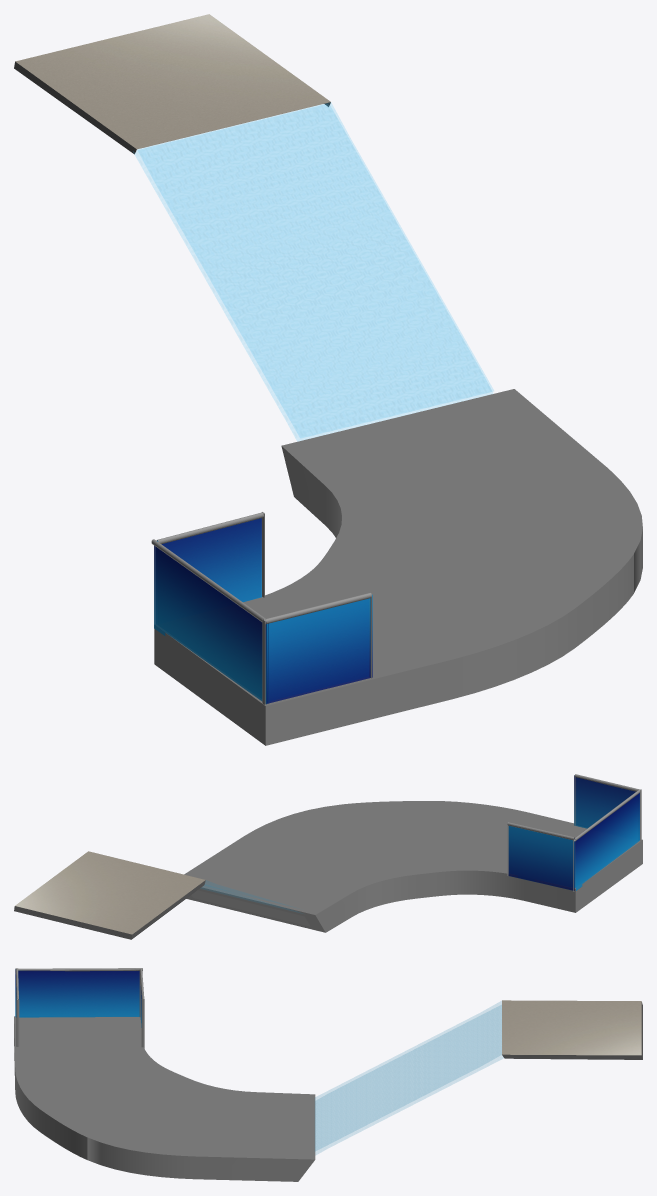
Rendered from Terreno2Tratado.FBX.
The picture shows the model from 3 angles, top to bottom: view 1: azimuth 30°, elevation 25°; view 2: azimuth 150°, elevation 25°; view 3: azimuth 270°, elevation 25°; orthographic projection. The views are drawn at different scales.
Parts seen in each view (by area): view 1: Chao5, Line001, ParedeAzul5, ParedeAzul4, ParedeAzul3, FerroCirc011; view 2: Line001, Chao5, ParedeAzul3, ParedeAzul5, ParedeAzul4, FerroCirc011, ferro3, ferro4; view 3: Line001, Chao5, ParedeAzul5, ferro4, ferro3.
Part boxes in pixels (x1,y1,x2,y2): Chao5: [14, 14, 493, 440]; Line001: [154, 389, 642, 745]; ParedeAzul5: [154, 545, 268, 704]; ParedeAzul4: [266, 594, 372, 703]; ParedeAzul3: [157, 518, 261, 602]; FerroCirc011: [262, 592, 371, 704]; Line001: [184, 801, 642, 932]; Chao5: [14, 851, 310, 939]; ParedeAzul3: [508, 826, 575, 890]; ParedeAzul5: [574, 793, 639, 890]; ParedeAzul4: [574, 775, 635, 828]; FerroCirc011: [574, 774, 641, 841]; ferro3: [507, 822, 574, 891]; ferro4: [573, 789, 640, 841]; Line001: [14, 1016, 315, 1181]; Chao5: [315, 1000, 642, 1154]; ParedeAzul5: [15, 969, 139, 1017]; ferro4: [16, 968, 142, 971]; ferro3: [139, 969, 144, 1048].
Bounding box in the file's own units: 54.05 × 21.38 × 100.
